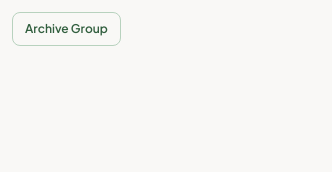
Scenario: Lifecycle actions › displays backend rejection without reporting success
Click the button "Archive Group".
click(66, 29)  # box top-left (12, 12), bottom-right (121, 46)
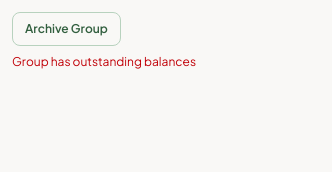
Check: the message reads "Group has outstanding balances", box top-left (12, 54), bottom-right (196, 69)
